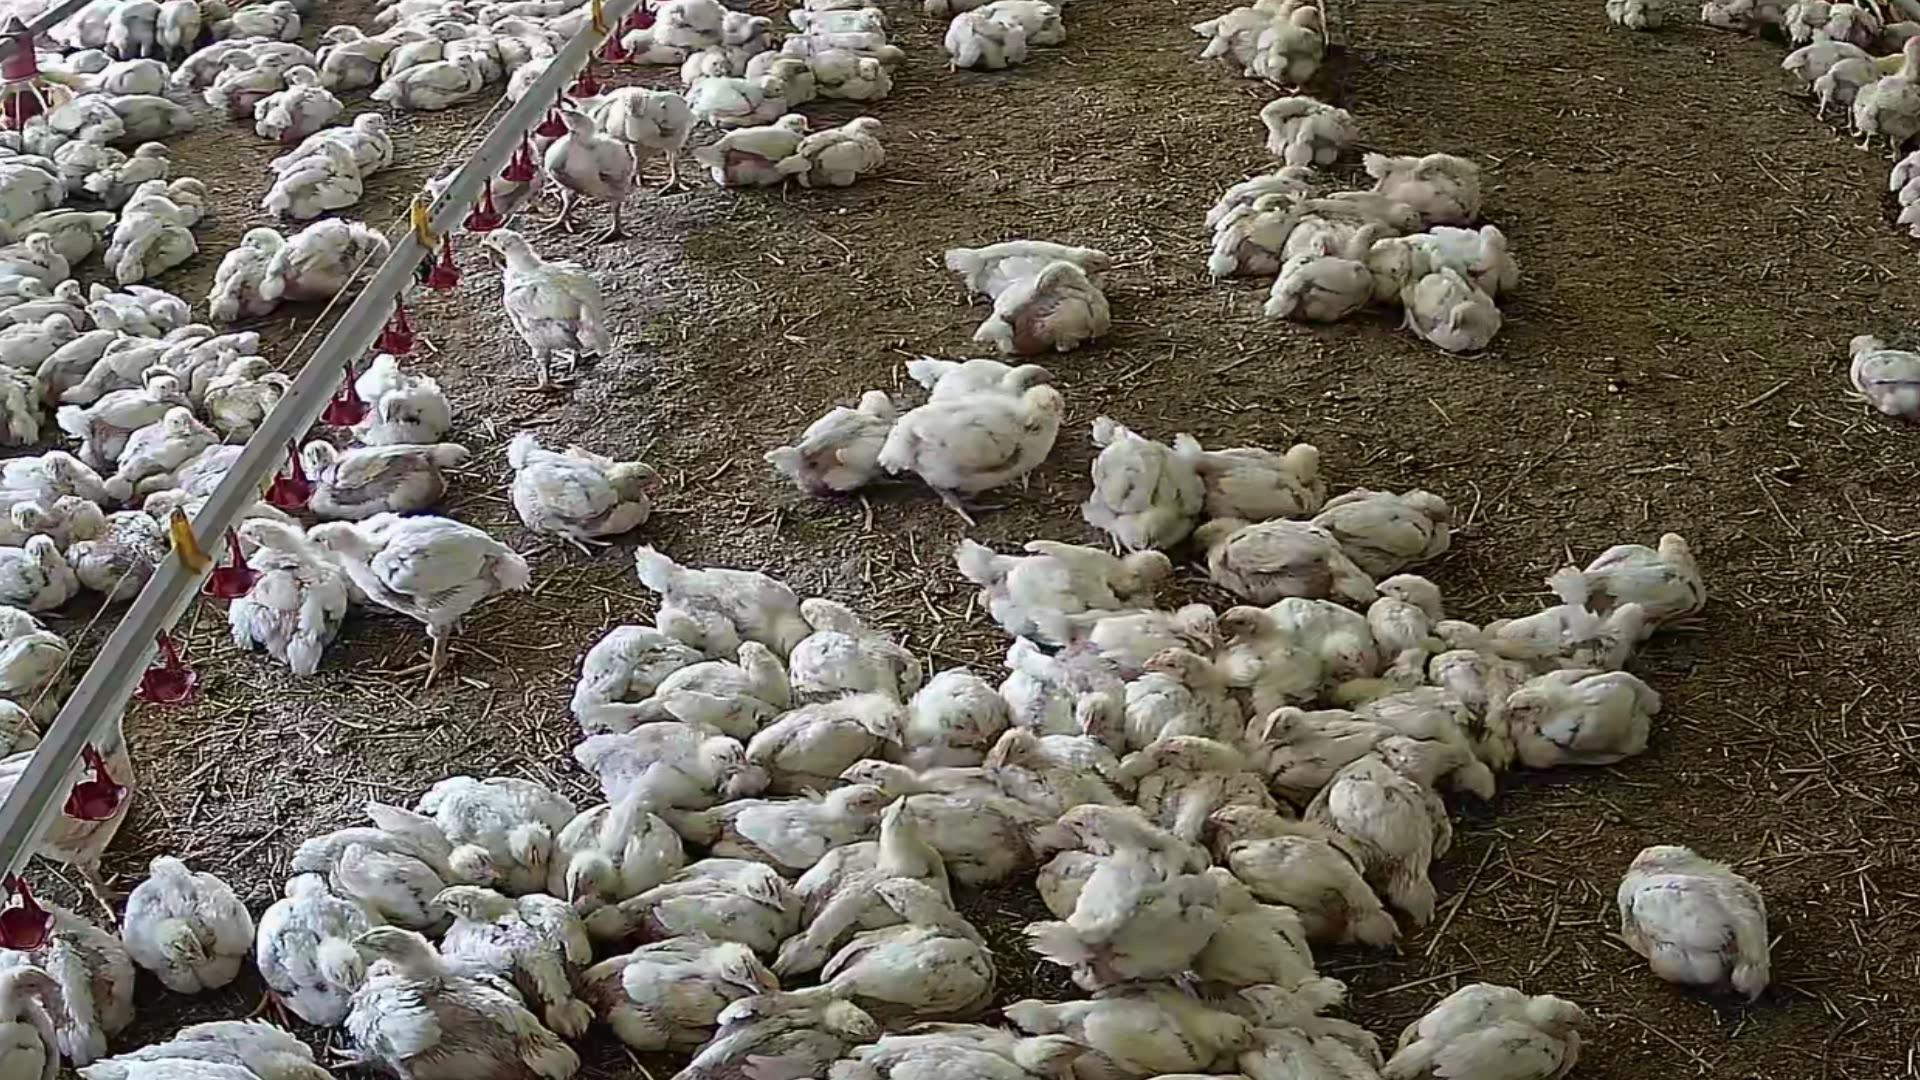poussin: (0, 702, 156, 931), (1610, 829, 1785, 1019), (1311, 729, 1456, 934), (835, 737, 1048, 876), (361, 926, 547, 1079), (1054, 799, 1209, 976), (310, 518, 533, 638), (429, 868, 593, 1019), (791, 796, 953, 942), (845, 881, 1000, 1027), (1221, 822, 1389, 947), (600, 932, 785, 1046), (887, 393, 1073, 502), (7, 898, 137, 1051), (313, 804, 497, 913), (1400, 972, 1582, 1080), (483, 229, 613, 380), (1191, 516, 1387, 612), (1489, 674, 1677, 773), (498, 434, 671, 538), (978, 541, 1179, 628), (641, 546, 800, 654), (1431, 600, 1524, 782), (116, 847, 244, 978), (1015, 992, 1250, 1063), (674, 993, 872, 1077), (265, 864, 360, 1033), (1536, 517, 1714, 607), (568, 724, 753, 810), (239, 521, 338, 680), (700, 789, 890, 870), (761, 692, 909, 796), (620, 858, 796, 944), (286, 436, 495, 506), (105, 1013, 322, 1080), (1215, 589, 1361, 688), (769, 393, 905, 498), (543, 107, 647, 243), (928, 216, 1118, 290), (436, 782, 574, 884), (1484, 595, 1654, 676), (1146, 728, 1274, 836), (993, 258, 1121, 367), (1101, 423, 1203, 559), (993, 724, 1139, 815), (1146, 630, 1241, 770), (1191, 869, 1303, 985), (1237, 980, 1366, 1080), (1265, 702, 1395, 799), (843, 1033, 1102, 1080), (546, 819, 699, 899), (574, 626, 694, 727), (1025, 647, 1131, 760), (661, 645, 793, 732), (1201, 438, 1332, 525), (793, 597, 919, 686), (1317, 476, 1453, 556), (257, 219, 377, 309), (1203, 790, 1338, 865), (924, 655, 1025, 757), (1283, 228, 1382, 328), (1390, 268, 1506, 351), (615, 87, 699, 199), (269, 108, 400, 178), (698, 109, 808, 189), (1104, 593, 1229, 662), (256, 138, 363, 218), (353, 367, 463, 443), (1319, 175, 1432, 244), (0, 972, 73, 1079), (87, 512, 167, 607), (204, 222, 276, 319), (0, 447, 124, 502), (0, 599, 67, 699), (790, 116, 886, 186), (1196, 204, 1304, 266), (112, 206, 204, 277), (255, 58, 334, 141), (66, 338, 174, 398), (1253, 5, 1335, 84), (1847, 332, 1920, 421), (938, 4, 1027, 75), (1257, 103, 1357, 165), (1374, 146, 1482, 203), (7, 206, 121, 258), (124, 415, 208, 487), (885, 361, 1035, 401), (0, 538, 84, 608), (95, 375, 189, 436), (380, 55, 483, 108), (1375, 591, 1429, 691), (1406, 222, 1524, 266), (1838, 73, 1916, 140), (1382, 570, 1466, 632), (1203, 3, 1295, 58), (753, 33, 819, 109), (1805, 57, 1903, 108), (54, 115, 127, 178), (686, 71, 783, 117), (796, 58, 898, 102), (1222, 164, 1317, 210), (0, 365, 55, 444), (1783, 36, 1875, 83), (509, 32, 574, 95), (191, 351, 268, 404), (0, 311, 76, 364), (0, 232, 69, 289), (141, 492, 224, 538), (326, 16, 378, 87), (0, 708, 63, 766), (46, 84, 112, 140), (971, 0, 1065, 38), (129, 284, 204, 331), (647, 0, 716, 51), (235, 0, 307, 47), (104, 141, 173, 191), (430, 22, 495, 74), (121, 179, 207, 218), (225, 51, 290, 102), (1873, 88, 1919, 157), (148, 0, 203, 57), (104, 98, 195, 132), (1771, 0, 1838, 46), (0, 154, 69, 199), (785, 32, 902, 57), (91, 59, 178, 91), (625, 33, 687, 75), (183, 44, 252, 80), (109, 0, 157, 53), (1822, 3, 1884, 42), (0, 504, 51, 550), (793, 11, 886, 36), (549, 0, 622, 32), (1606, 0, 1676, 32), (54, 501, 112, 538), (724, 13, 789, 46), (1149, 1063, 1266, 1080), (76, 0, 112, 54), (86, 302, 133, 340), (683, 53, 740, 84), (498, 20, 549, 55), (1714, 0, 1764, 36), (1880, 150, 1920, 193), (392, 22, 436, 59), (376, 0, 460, 18), (54, 269, 98, 305), (495, 0, 562, 22), (1882, 13, 1919, 53), (219, 51, 281, 71), (4, 273, 41, 303), (1895, 175, 1920, 210), (446, 0, 472, 28), (1905, 200, 1920, 249), (480, 7, 505, 29)
